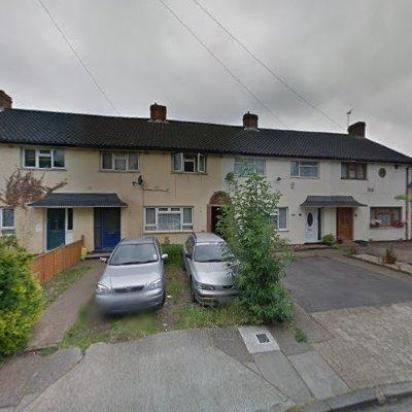stationary-car-offstreet: (91, 234, 169, 318), (179, 229, 249, 309)
